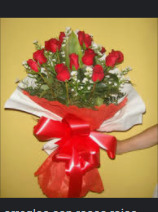RedRose: (90, 67, 108, 90), (37, 37, 61, 54), (78, 25, 96, 46), (103, 50, 128, 64), (55, 64, 72, 82), (67, 52, 82, 69), (23, 58, 41, 72), (30, 52, 48, 64), (54, 28, 66, 43), (84, 47, 94, 63)
